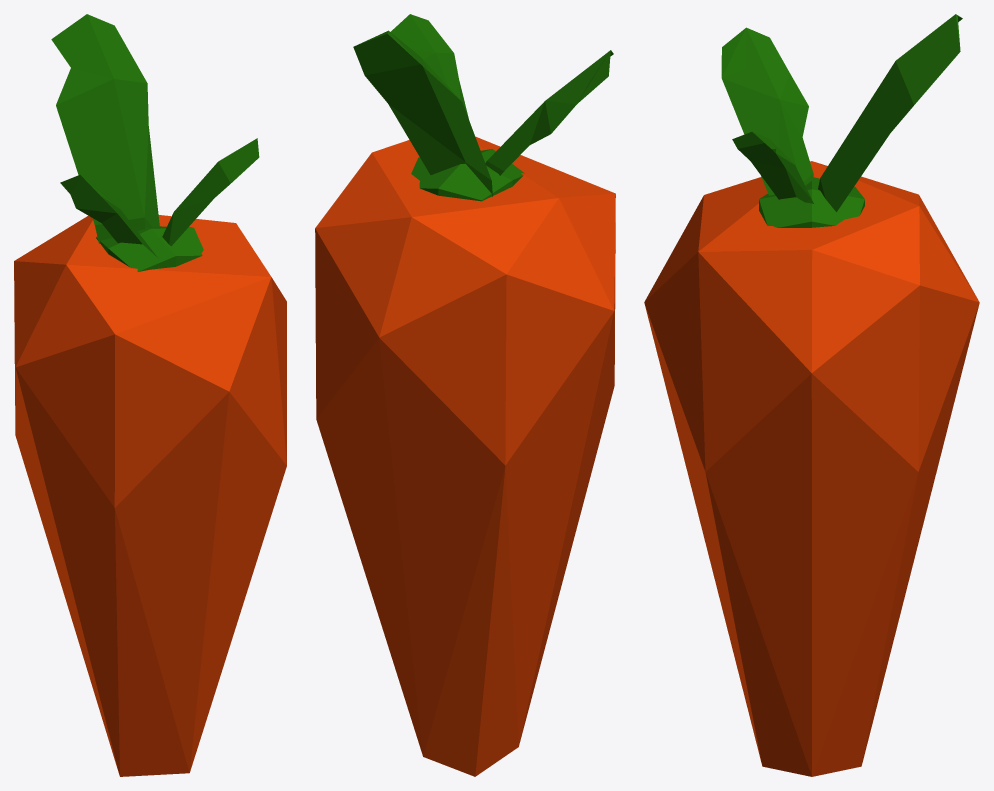
File: food_carrot.fbx
3 views of the same model, side by side, from view 1: azimuth 30°, elevation 25°; view 2: azimuth 150°, elevation 25°; view 3: azimuth 270°, elevation 25° (orthographic). The views are drawn at different scales.
Visible parts, largest first — view 1: Plane.002; view 2: Plane.002; view 3: Plane.002.
Boxes of the visible parts, bbox=[...] form: Plane.002: bbox=[14, 14, 286, 776]; Plane.002: bbox=[315, 14, 615, 776]; Plane.002: bbox=[644, 14, 979, 776].
Bounding box in the file's own units: 186 × 468 × 186.
